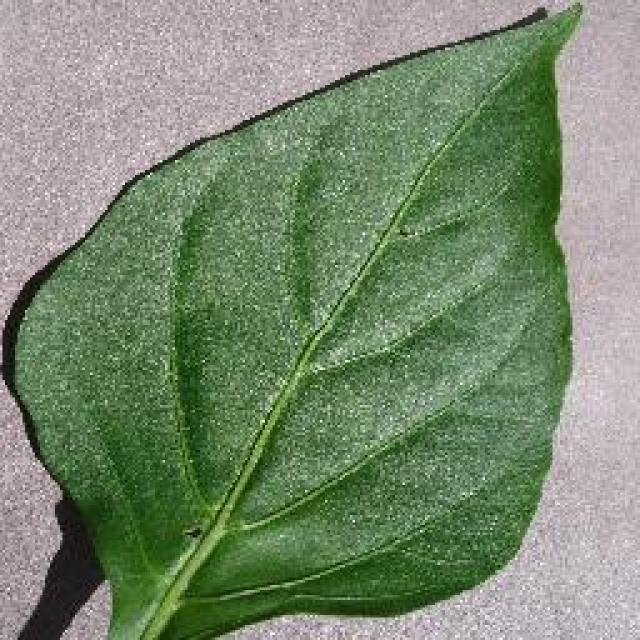Chilli_Healthy: (0, 0, 585, 638)
